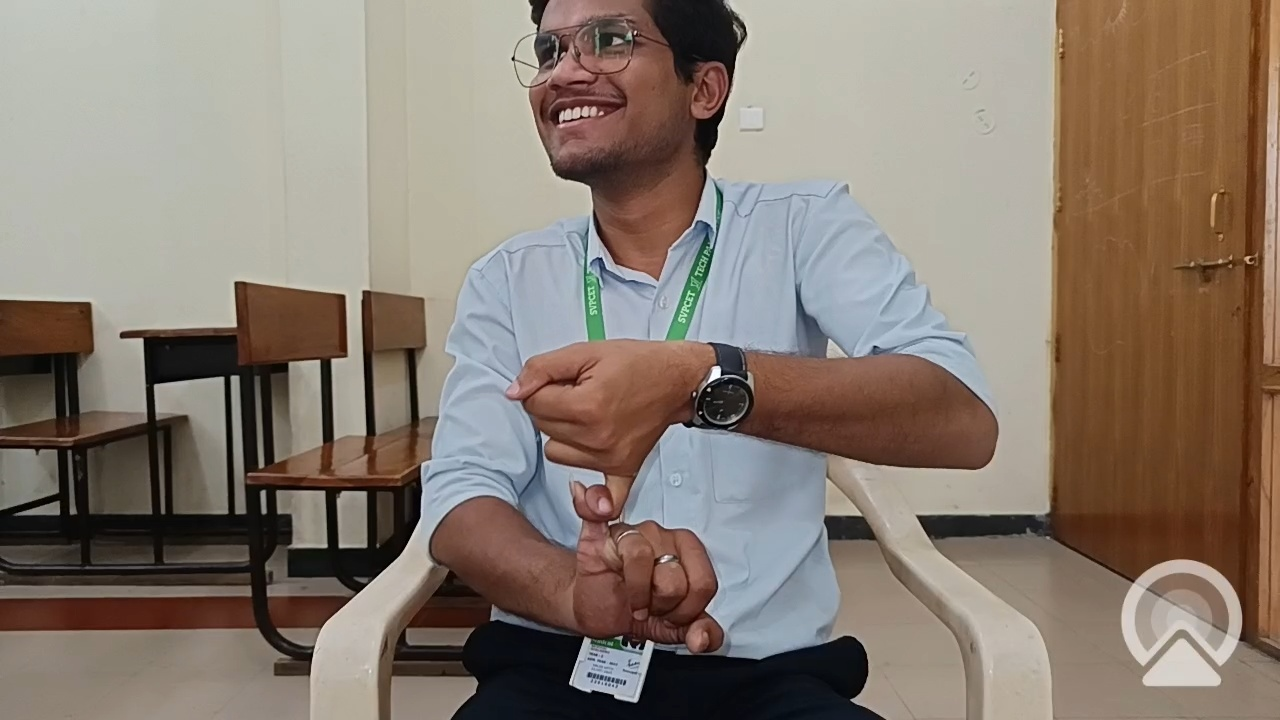S: (477, 220, 811, 686)
